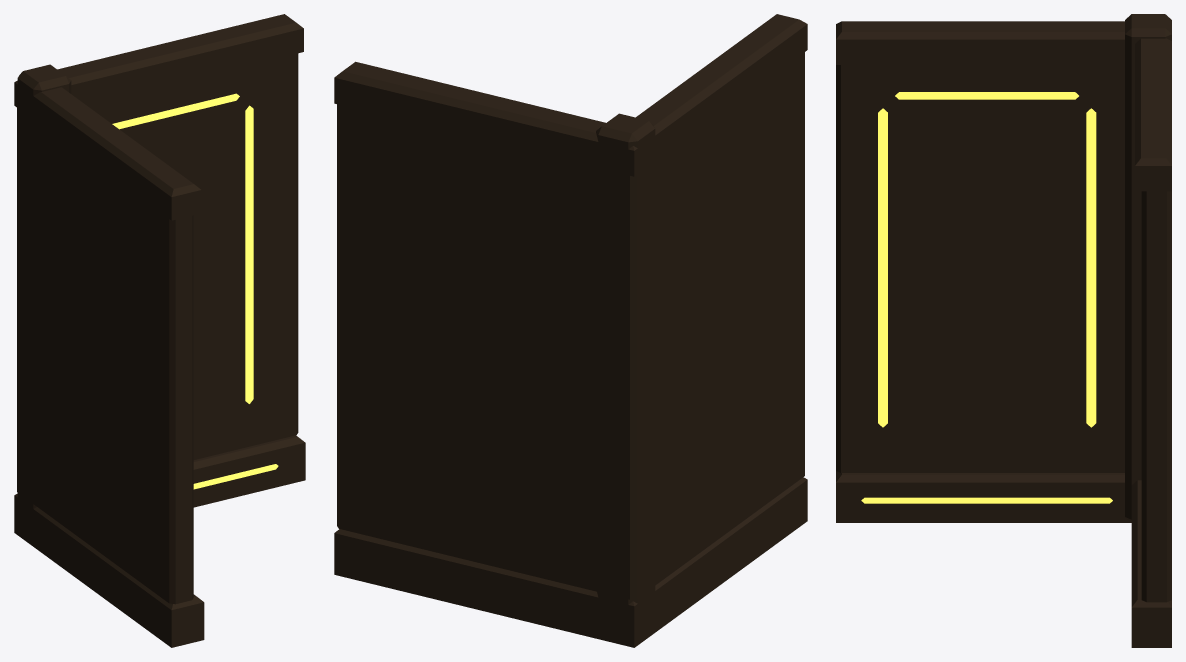
The model's file is corner_hard.glb.
3 renders of one model, left to right at view 1: azimuth 30°, elevation 25°; view 2: azimuth 150°, elevation 25°; view 3: azimuth 270°, elevation 25°, orthographic. The views are drawn at different scales.
Parts seen in each view (by area): view 1: Mesh; view 2: Mesh; view 3: Mesh.
Boxes of the visible parts, x1,y1,x2,y2 form: Mesh: [14, 14, 305, 647]; Mesh: [334, 14, 807, 647]; Mesh: [836, 14, 1171, 647].
Bounding box in the file's own units: 2 × 3.25 × 2.
